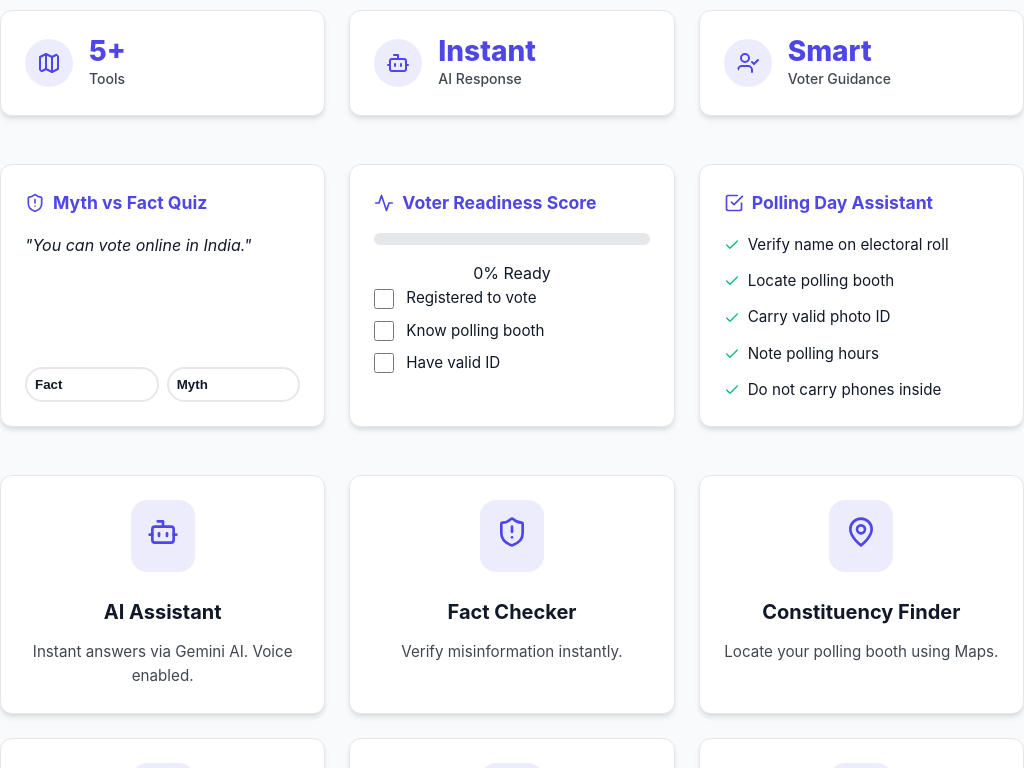
Test: Home Component Integration › QuizWidget handles myth vs fact correctly
(page scrolled)
Expected: the button "Myth" is shown, [167,367,300,402]
Note: Click Fact
Click the button "Fact" at {"x": 92, "y": 385}, box [25,367,159,402]
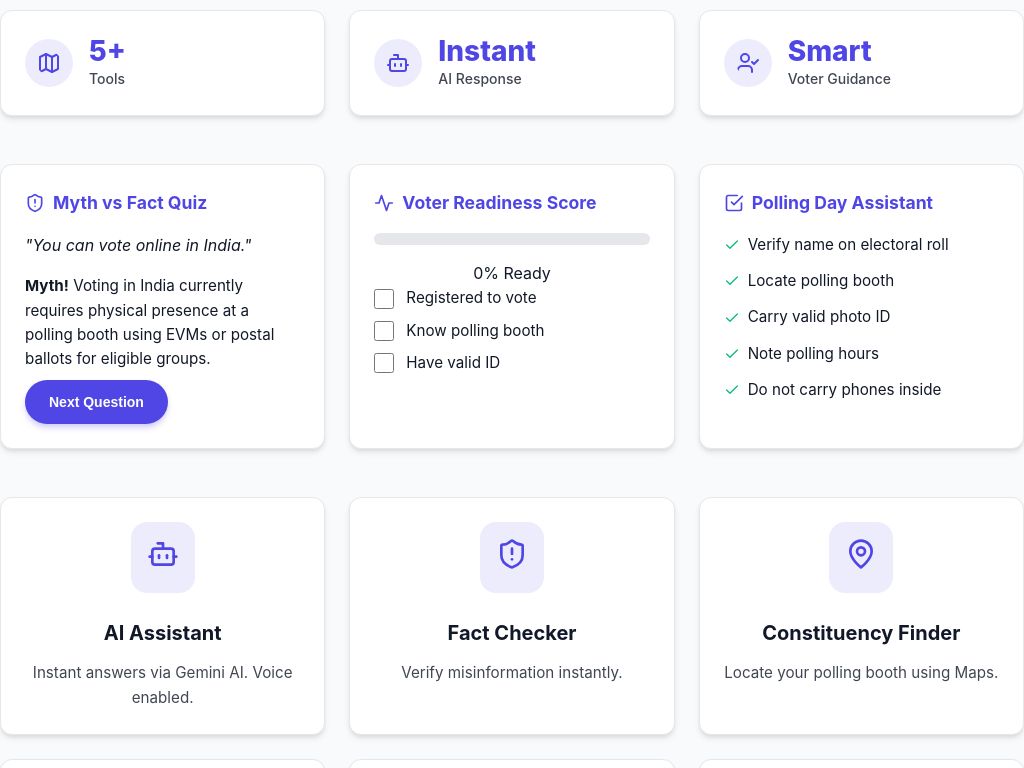
Expected: the text "Myth!" is shown, [25,276,69,295]
Note: Next Question
Click the button "Next Question" at {"x": 96, "y": 402}, box [25,380,168,424]
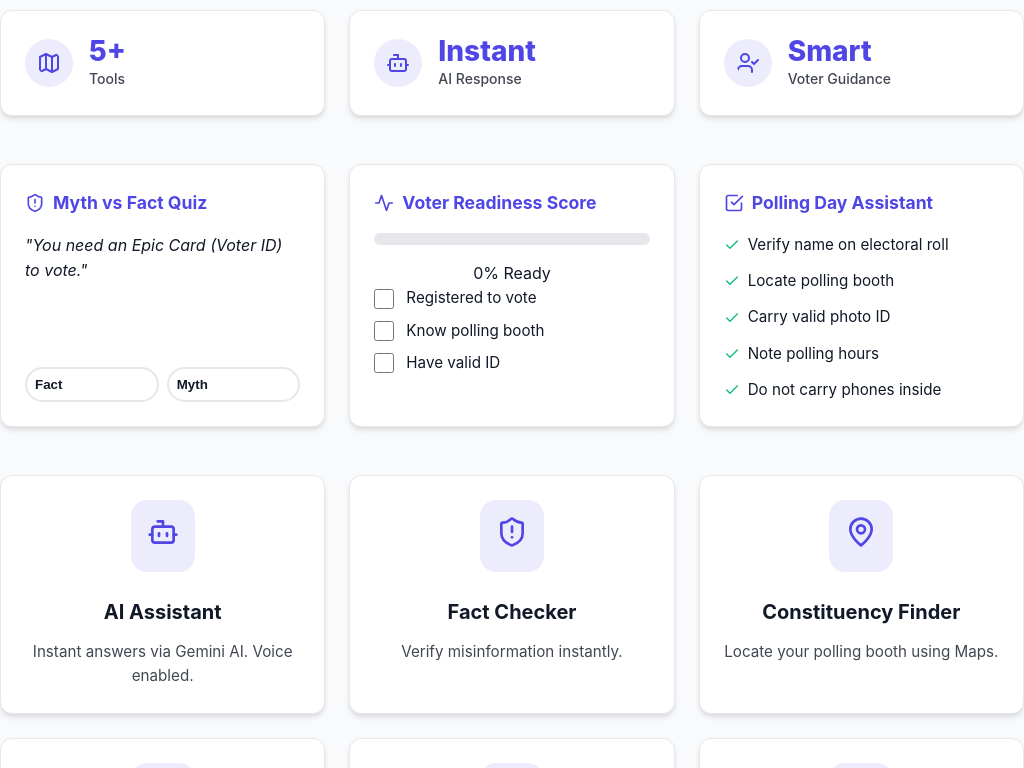
Expected: the button "Fact" is shown, [25,367,159,402]
